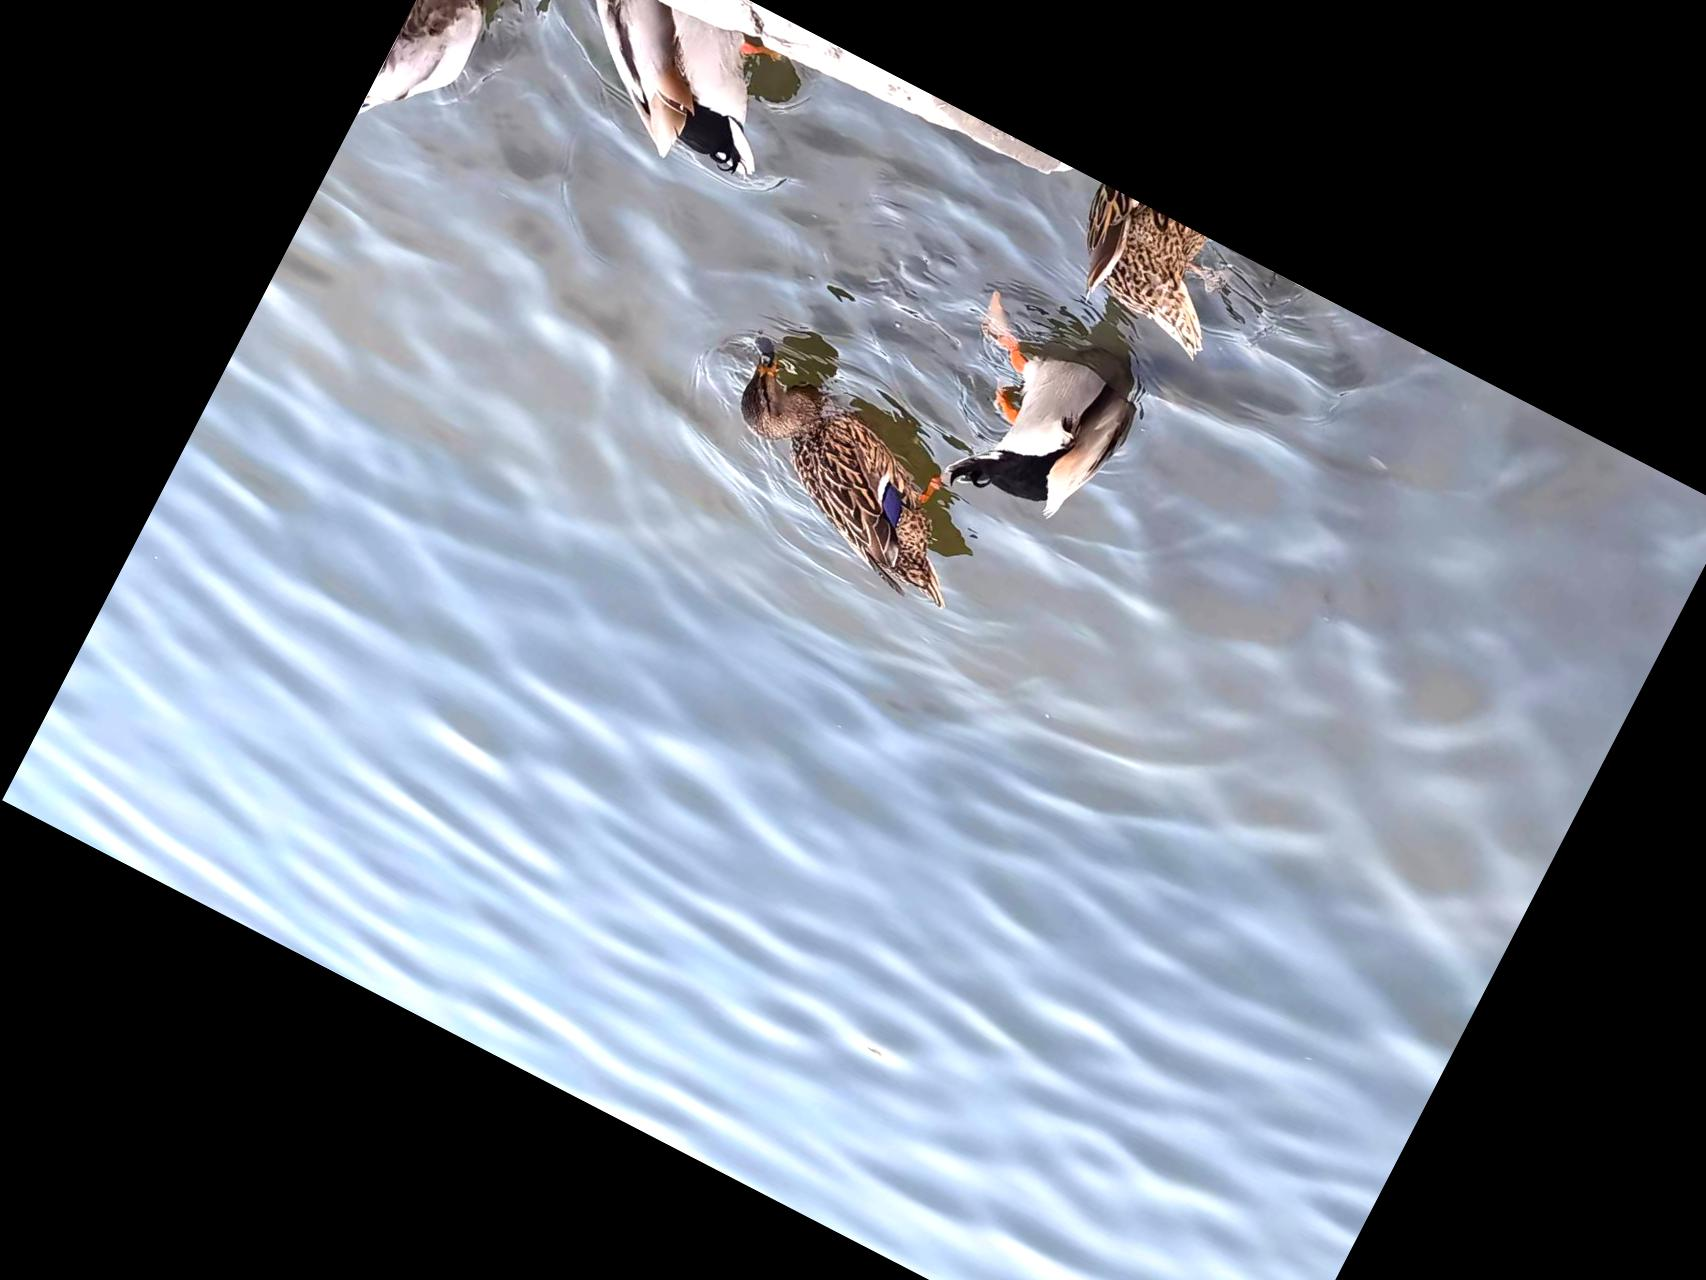duck: (678, 323, 1030, 631), (898, 286, 1182, 571), (539, 0, 817, 202), (1046, 184, 1262, 378), (351, 0, 526, 161)
